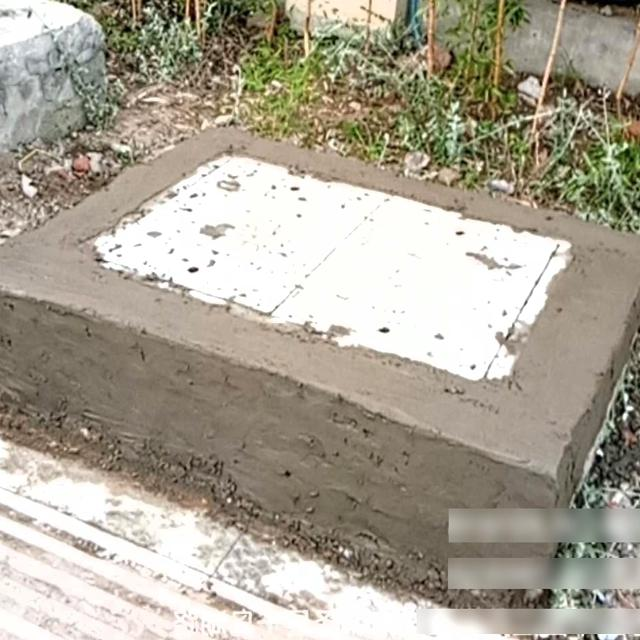good: (74, 150, 576, 379)
